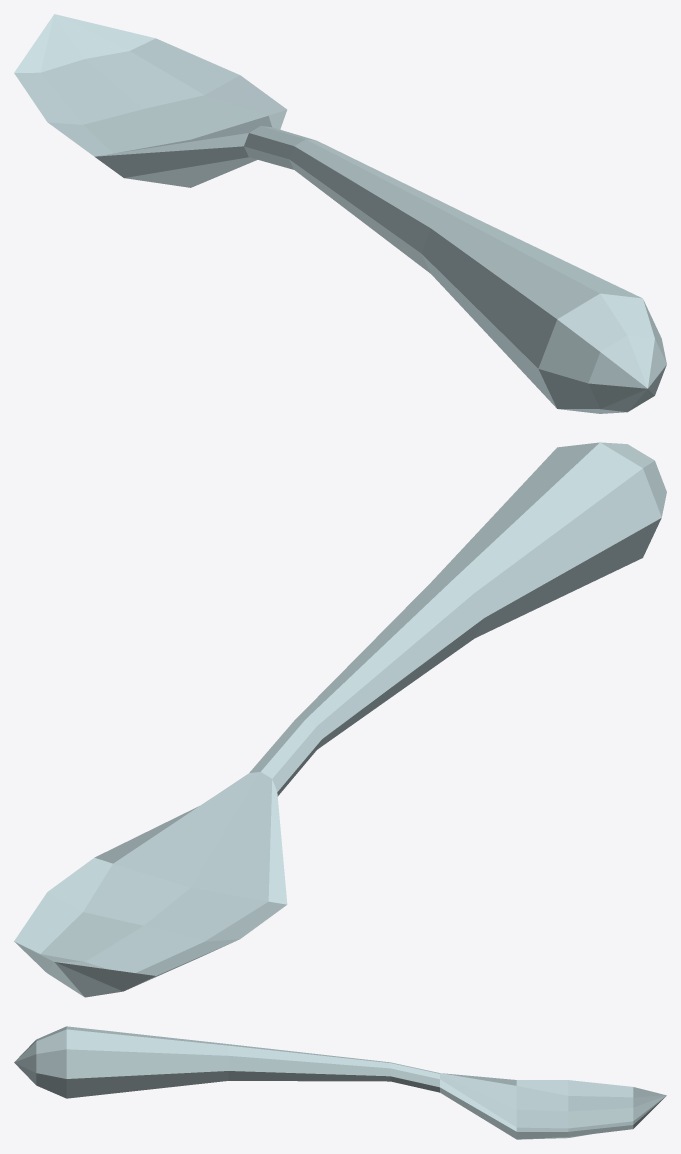
File: Spoon.fbx
3 views of the same model, one above another, from view 1: azimuth 30°, elevation 25°; view 2: azimuth 150°, elevation 25°; view 3: azimuth 270°, elevation 25° (orthographic). The views are drawn at different scales.
Visible parts, largest first — view 1: Spoon; view 2: Spoon; view 3: Spoon.
Boxes of the visible parts, x1,y1,x2,y2 form: Spoon: [14, 14, 666, 413]; Spoon: [14, 442, 666, 997]; Spoon: [14, 1026, 666, 1139].
Size of the model in its own units: 3.31 by 3.24 by 17.64.
